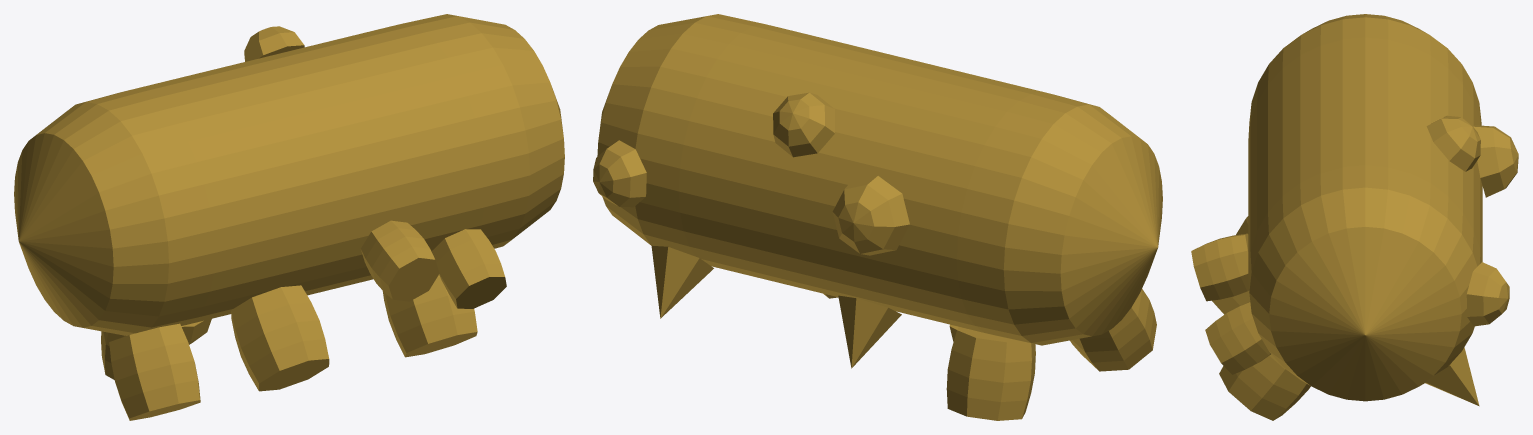
The model's file is exp1_capsule_asym_02.glb.
The picture shows the model from 3 angles, left to right: view 1: azimuth 30°, elevation 25°; view 2: azimuth 150°, elevation 25°; view 3: azimuth 270°, elevation 25°; orthographic projection. The views are drawn at different scales.
Visible parts, largest first — view 1: exp1_capsule_asym_02; view 2: exp1_capsule_asym_02; view 3: exp1_capsule_asym_02.
Boxes of the visible parts, <box> form: exp1_capsule_asym_02: <box>14,14,564,420</box>; exp1_capsule_asym_02: <box>593,14,1162,420</box>; exp1_capsule_asym_02: <box>1191,14,1518,420</box>.
Bounding box in the file's own units: 3.35 × 1.74 × 1.82.
